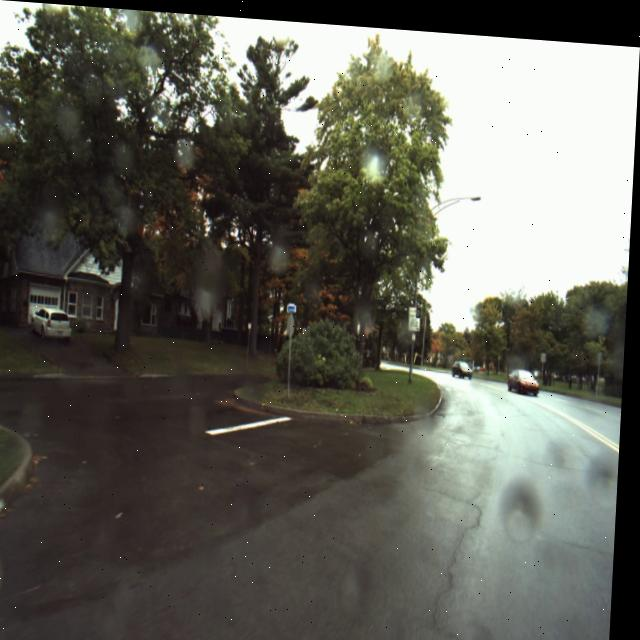car: (511, 355, 545, 389), (453, 353, 477, 377)
